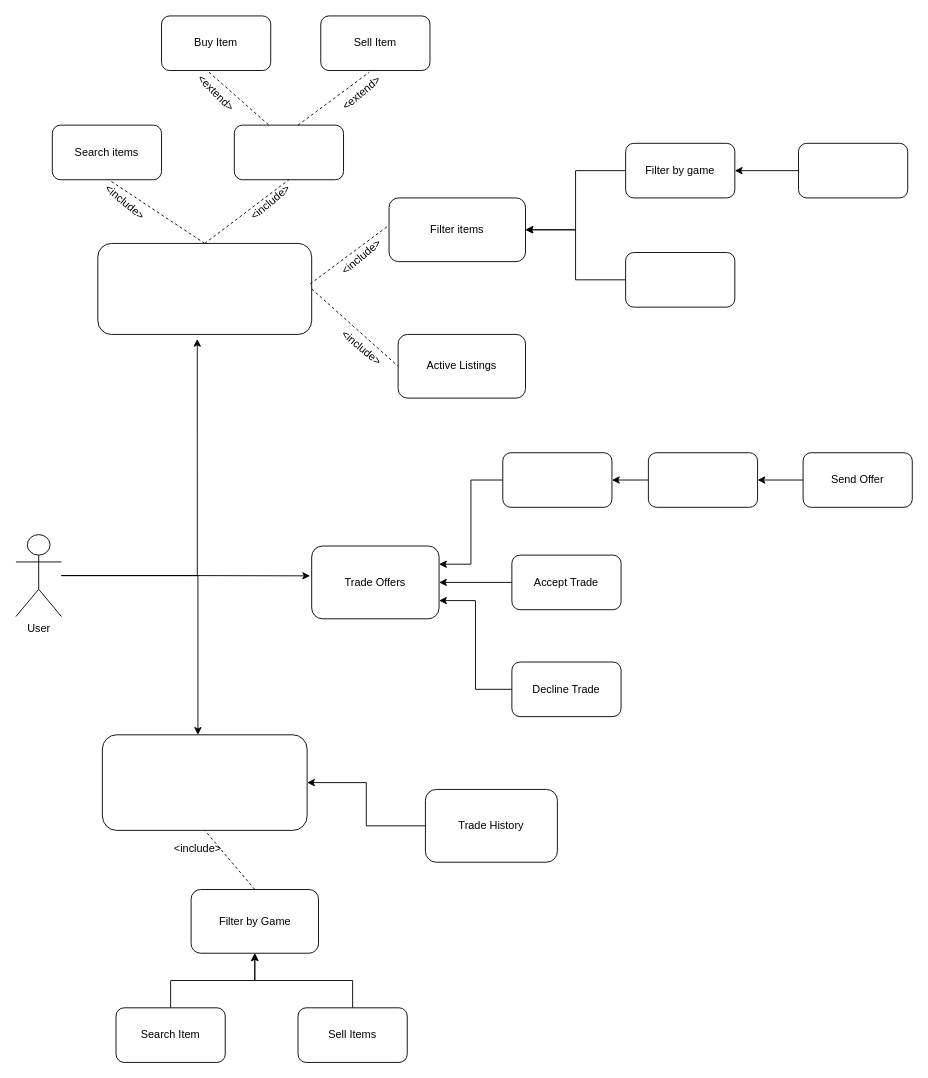
This 928x1078 diagram has some shape labels left out. Each missing label, with the box of its shape:
Create Trade Offer: (502, 452, 612, 507)
Filter by in-game item types: (798, 142, 908, 198)
Filter by price: (625, 252, 735, 307)
Inventory: (101, 734, 307, 830)
Item: (233, 124, 344, 180)
Marketplace: (97, 243, 312, 334)
Preview Trade: (647, 452, 758, 507)
